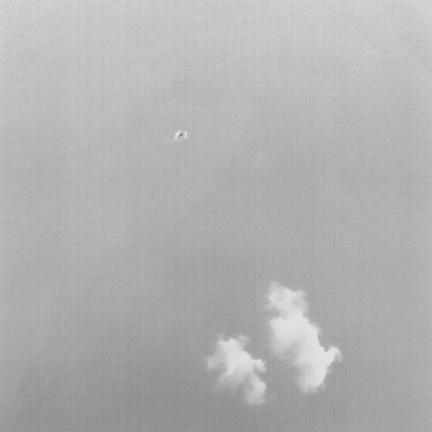flukeprints: (267, 282, 341, 392), (207, 335, 266, 403)
